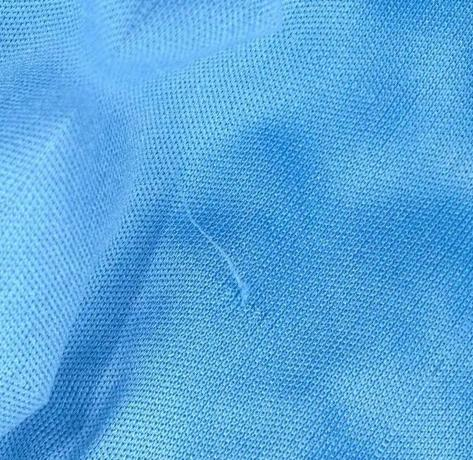snag: (171, 184, 260, 325)
